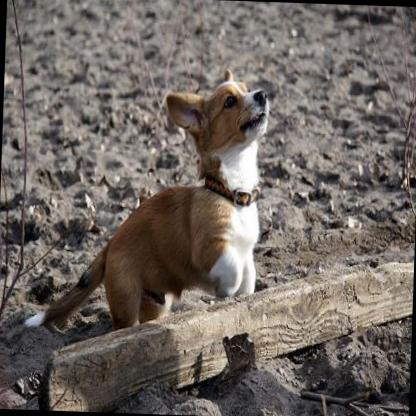Cardigan: (27, 61, 271, 340)
